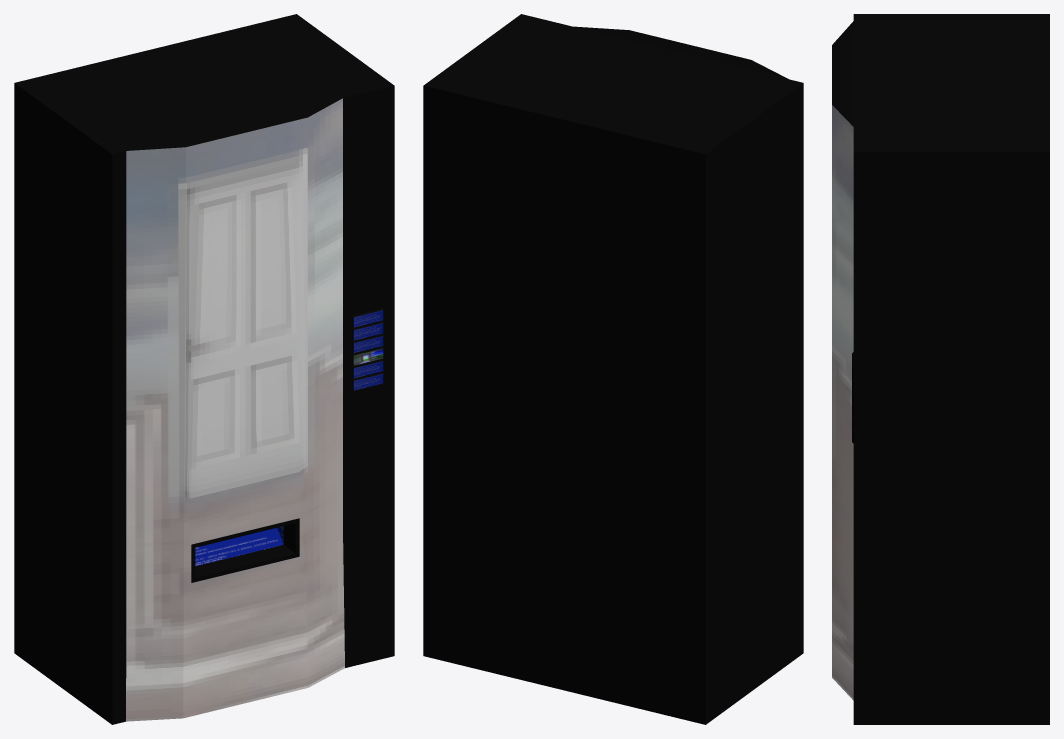
File: Door Machine.fbx
The picture shows the model from 3 angles, left to right: view 1: azimuth 30°, elevation 25°; view 2: azimuth 150°, elevation 25°; view 3: azimuth 270°, elevation 25°; orthographic projection.
Visible parts, largest first — view 1: Cube; view 2: Cube; view 3: Cube.
Part boxes in pixels (bbox=[...]): Cube: bbox=[14, 14, 394, 724]; Cube: bbox=[423, 14, 803, 724]; Cube: bbox=[832, 14, 1049, 724].
Bounding box in the file's own units: 450 × 869 × 300.
